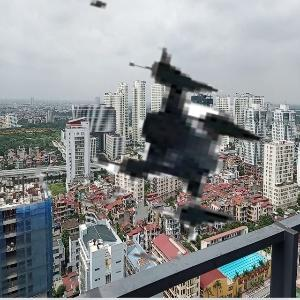drone: (24, 6, 293, 275)
